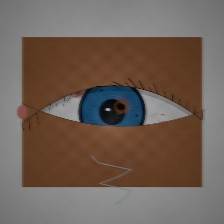foreign_body_visible: (60, 76, 94, 103)
